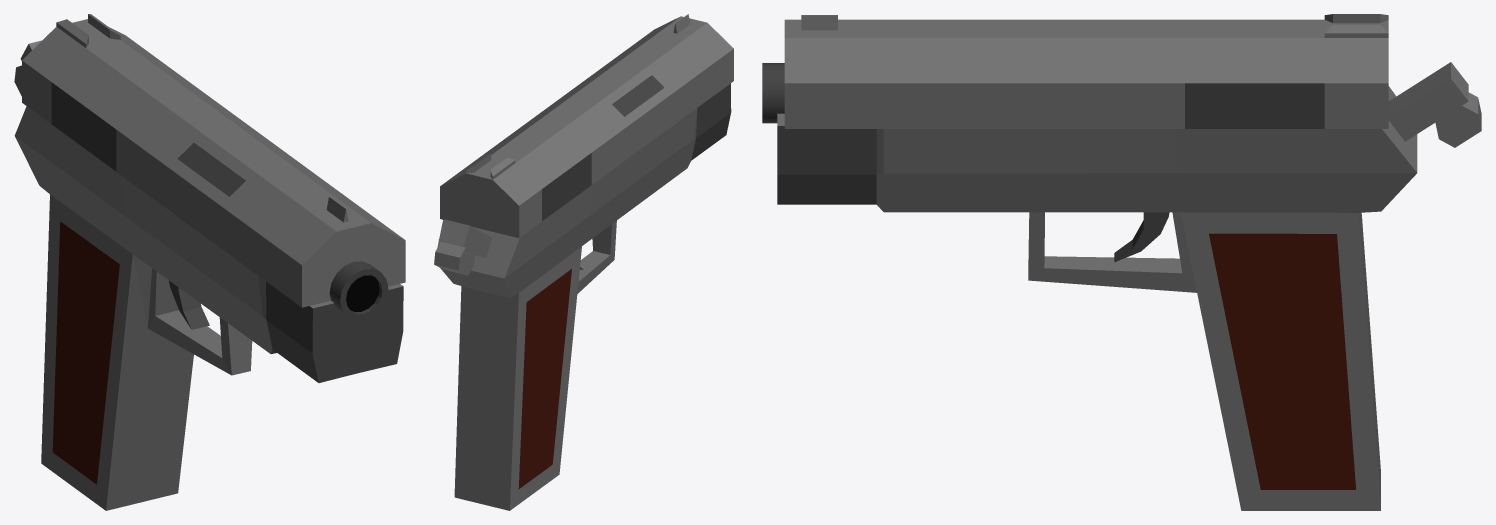
Rendered from Mesh_Gun.FBX.
3 views of the same model, side by side, from view 1: azimuth 30°, elevation 25°; view 2: azimuth 150°, elevation 25°; view 3: azimuth 270°, elevation 25° (orthographic). The views are drawn at different scales.
Parts seen in each view (by area): view 1: Box001, Box002, Cylinder001, Box005; view 2: Box001, Box002, Box003; view 3: Box001, Box002, Box003, Cylinder001, Box005.
Boxes of the visible parts, x1,y1,x2,y2 form: Box001: (14, 106, 403, 510); Box002: (22, 14, 405, 307); Cylinder001: (329, 261, 388, 320); Box005: (169, 280, 209, 329); Box001: (437, 75, 731, 510); Box002: (440, 14, 733, 237); Box003: (434, 219, 491, 275); Box001: (777, 86, 1417, 510); Box002: (784, 14, 1388, 128); Box003: (1388, 62, 1481, 147); Cylinder001: (762, 63, 784, 123); Box005: (1114, 212, 1169, 262).
Bounding box in the file's own units: 33.58 × 137 × 188.
